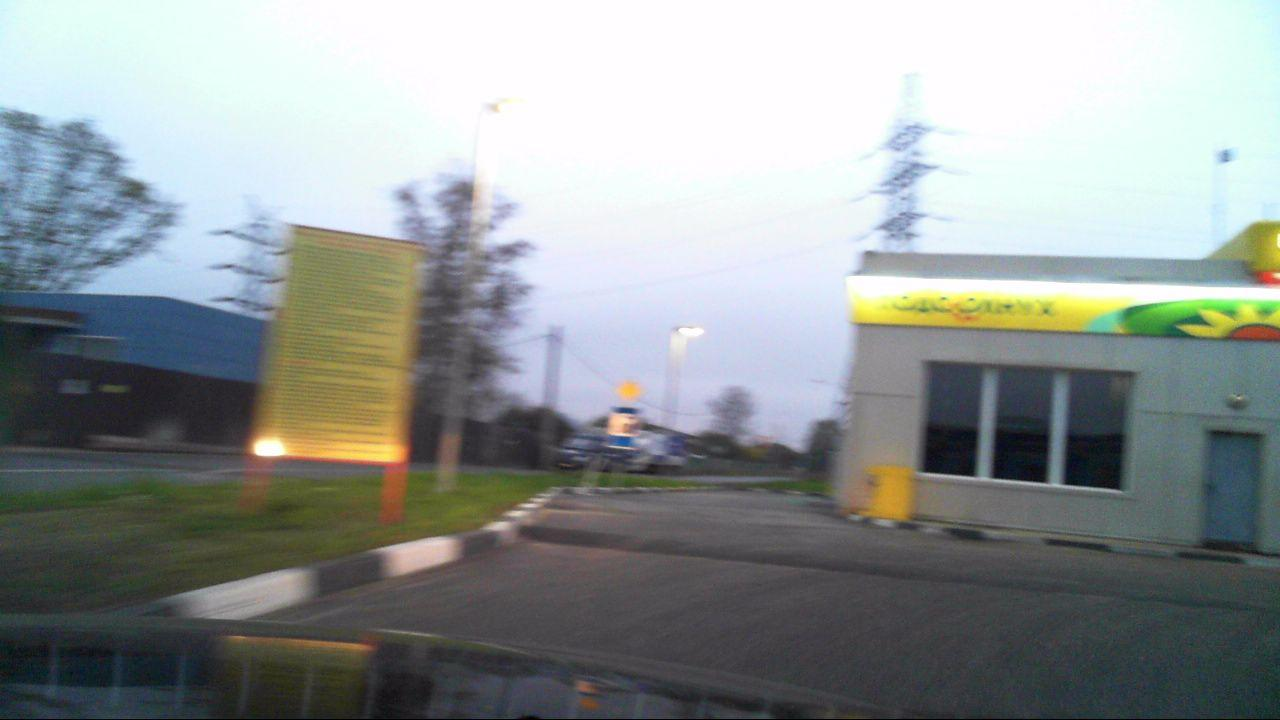2_1: (616, 374, 642, 406)
7_3: (605, 406, 636, 449)
